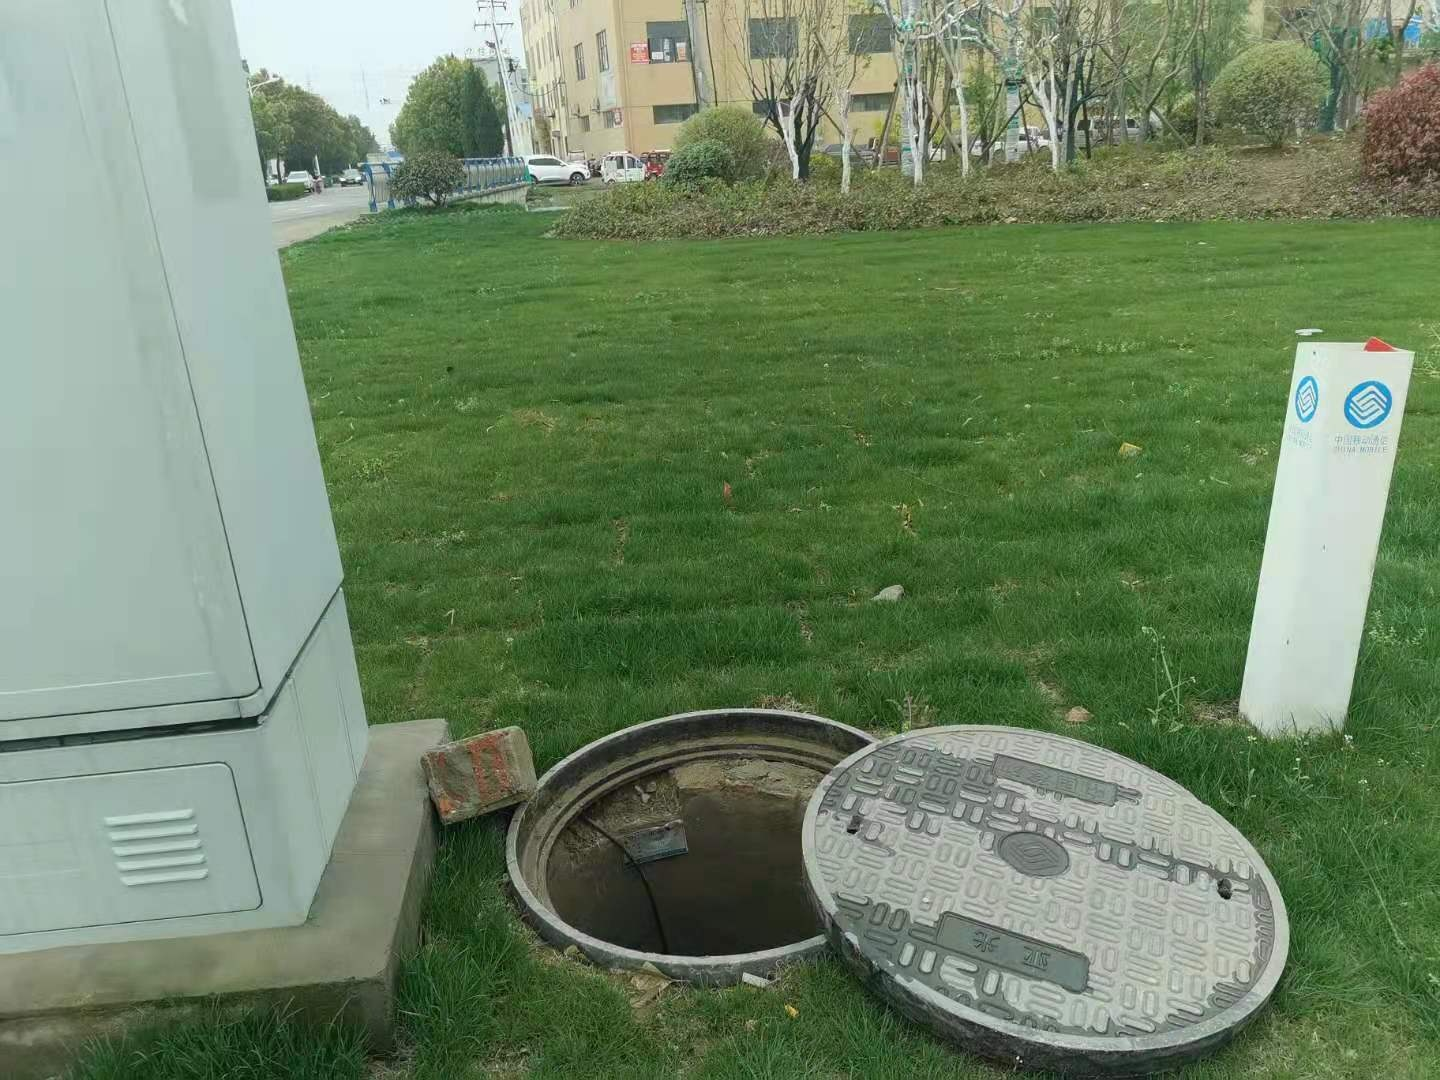well: (497, 720, 1291, 1068)
